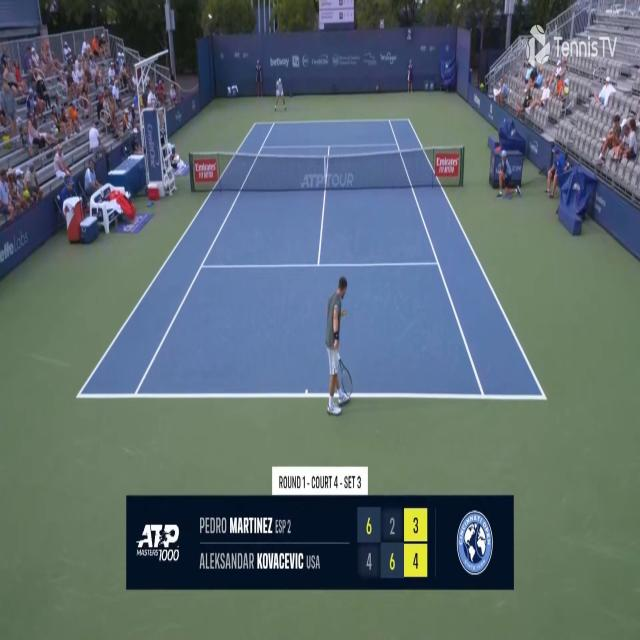tennis-player: (323, 273, 353, 419), (273, 77, 287, 113)
